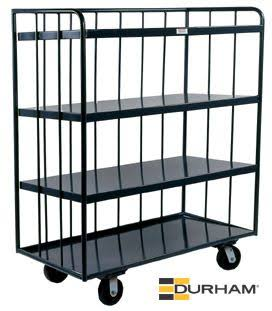Carts: (11, 6, 267, 305)
